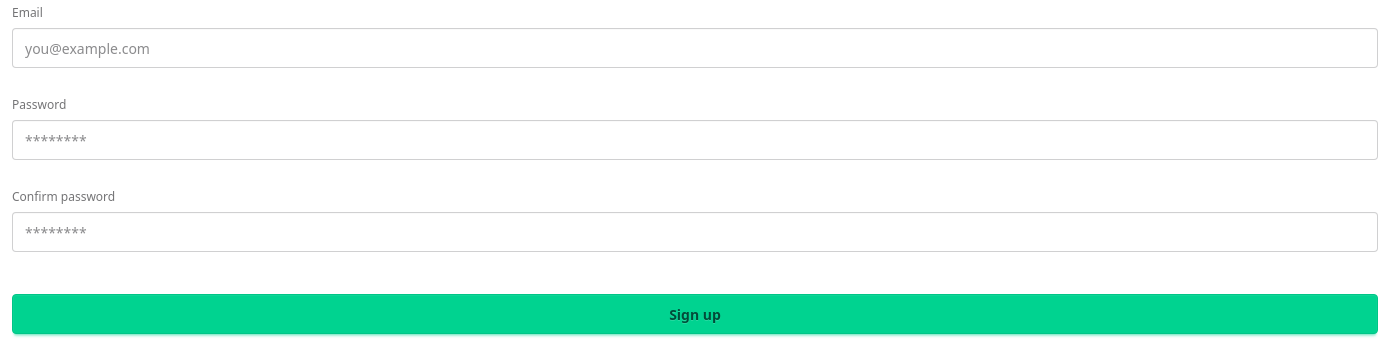
Test: SignUp Component › should show an error about invalid email format
This screenshot has width=1390, height=355.
Type "invalid-email-format" into the field labelled "Email" at (695, 48), box [12,28,1378,68]
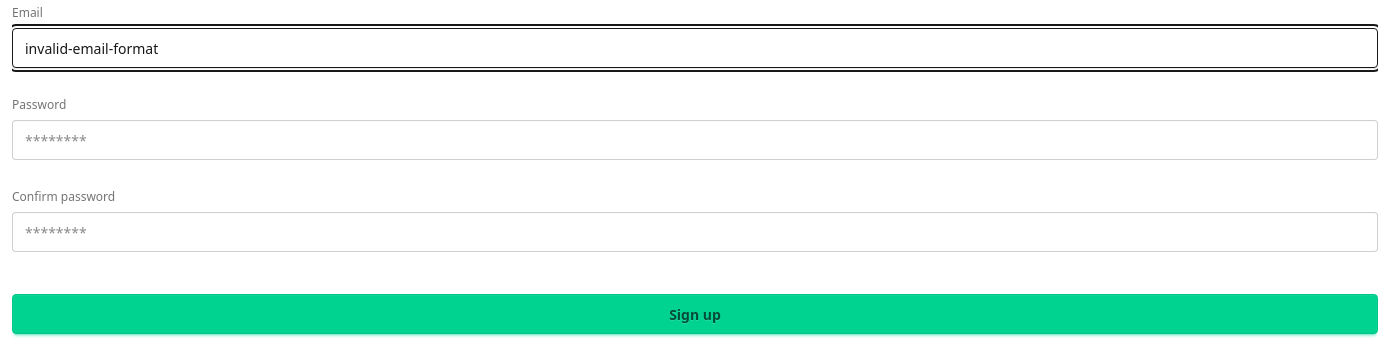
Click the button "Sign up" at (695, 314), box [12,294,1378,334]
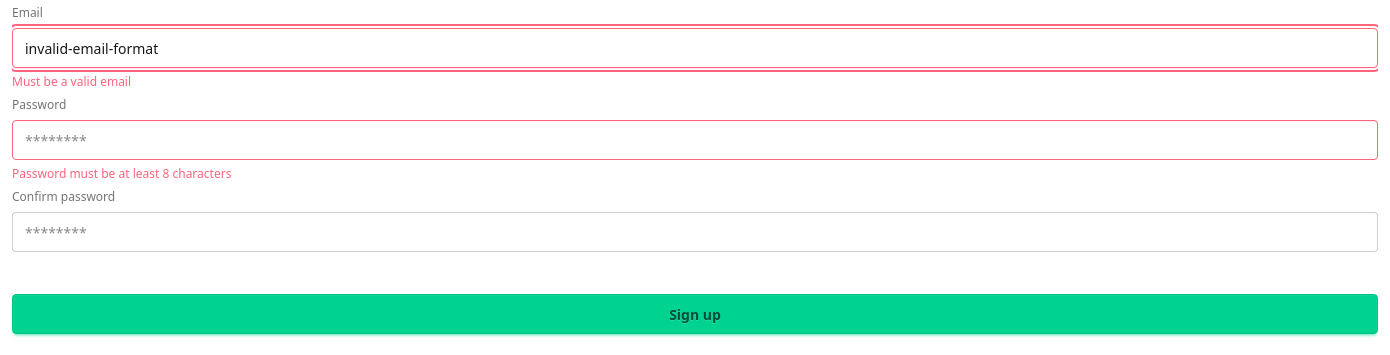
expect the text "Must be a valid email" is shown: met, box [12,73,131,90]
